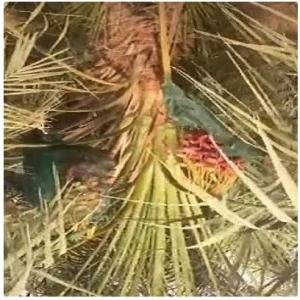palm tree: (4, 1, 297, 295)
